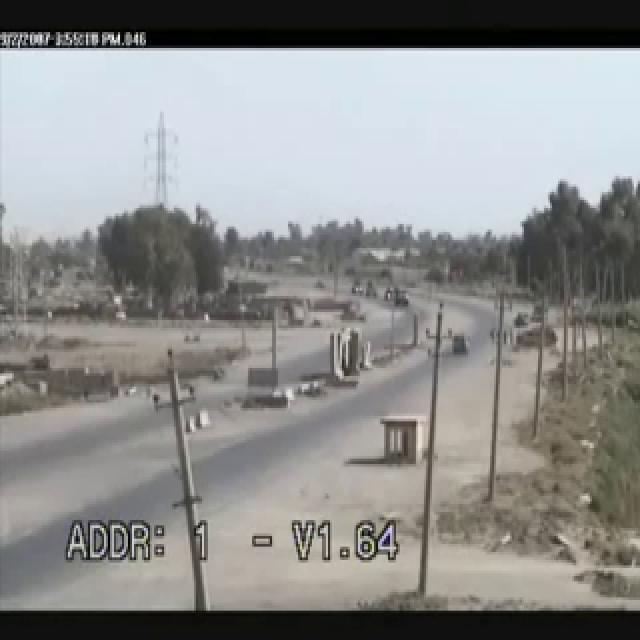explosion: (52, 60, 437, 640)
